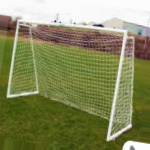goals: (5, 17, 134, 142)
